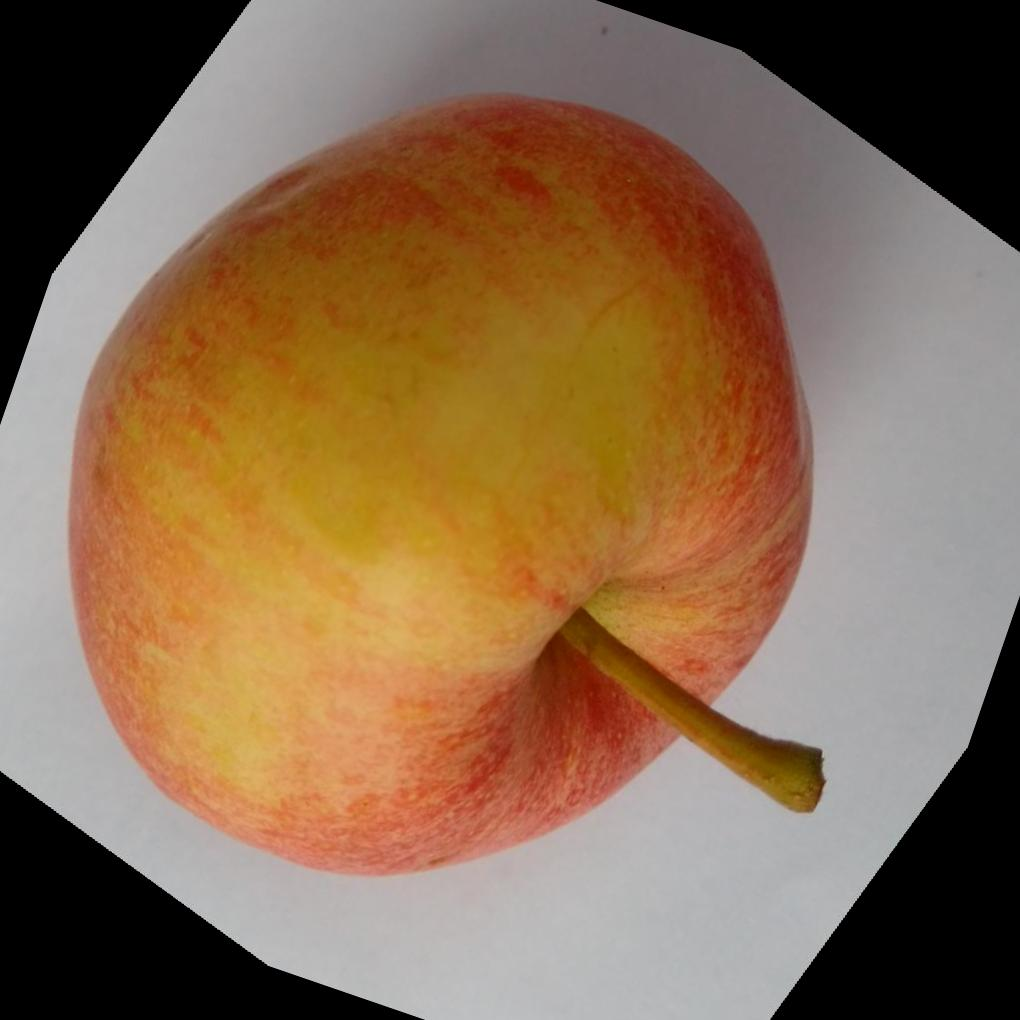FreshGuava: (65, 93, 824, 882)
